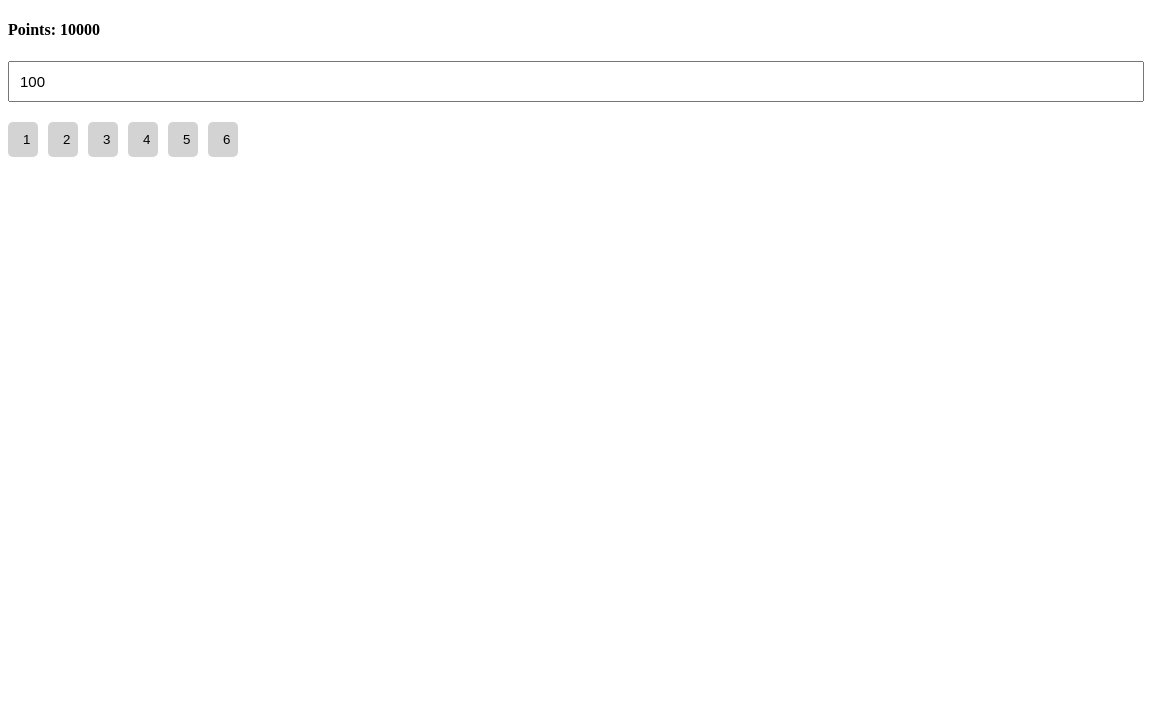
Test: Dice Component › displays correct player-choice when choosing number 1
The image size is (1152, 720).
Click the button "1": (23, 139) 8,122 -> 38,156
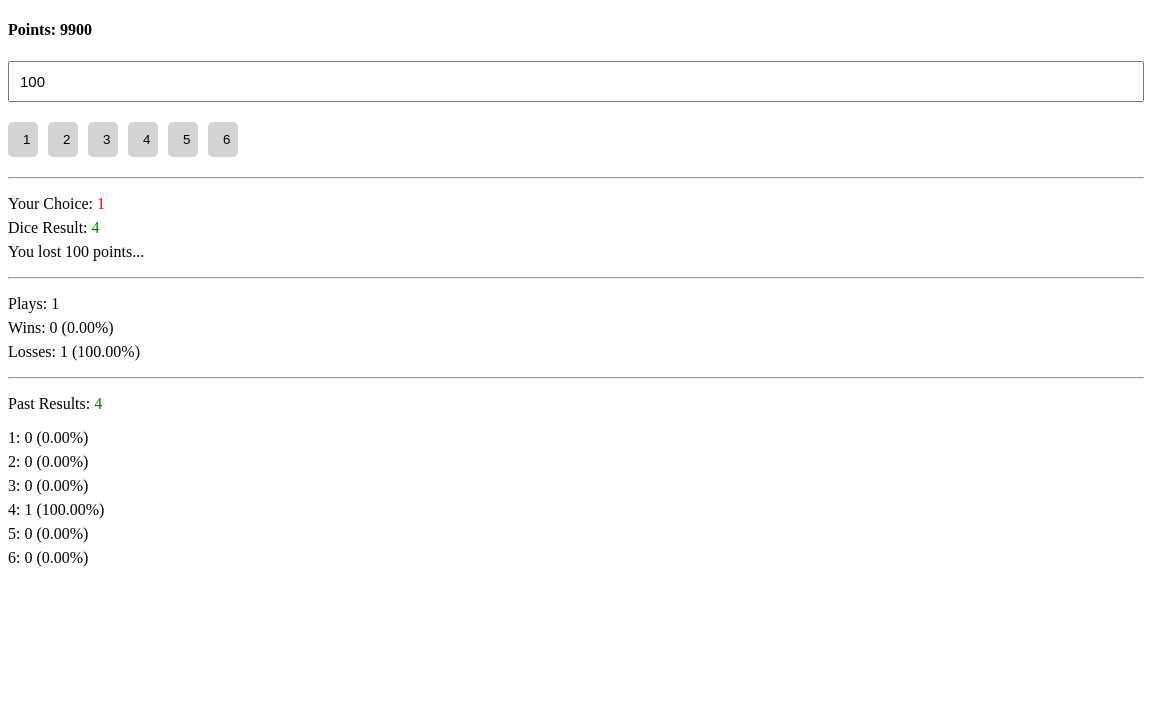
Check: the text with test id "Choice" reads "1", box 97,194 -> 105,212
